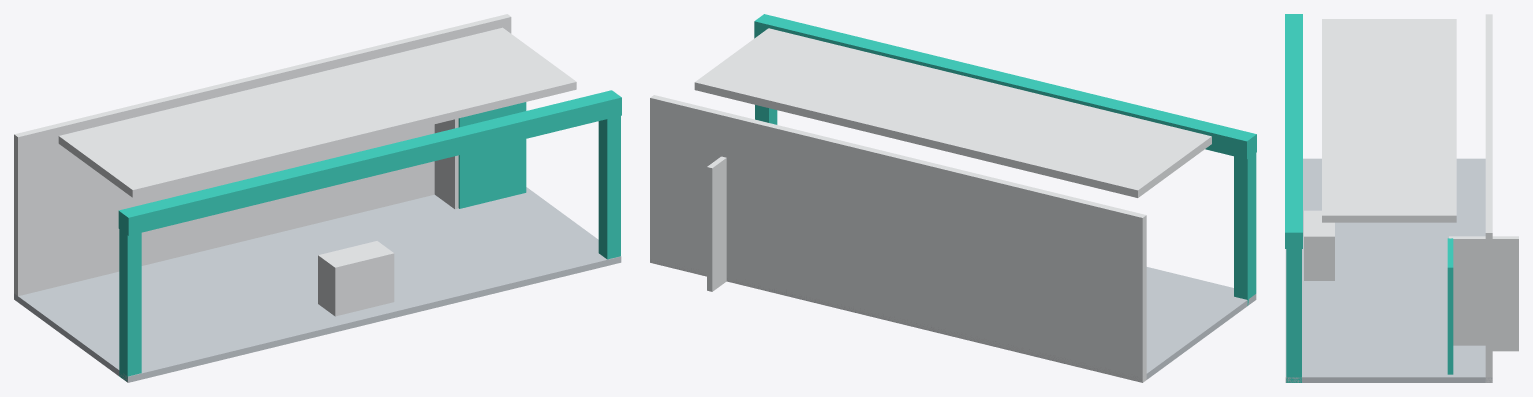
3 renders of one model, left to right at view 1: azimuth 30°, elevation 25°; view 2: azimuth 150°, elevation 25°; view 3: azimuth 270°, elevation 25°, orthographic. The views are drawn at different scales.
Parts seen in each view (by area): view 1: Exhibition Booth Concept; view 2: Exhibition Booth Concept; view 3: Exhibition Booth Concept.
Part boxes in pixels (x1,y1,x2,y2): Exhibition Booth Concept: [14, 14, 621, 382]; Exhibition Booth Concept: [650, 14, 1256, 382]; Exhibition Booth Concept: [1285, 14, 1518, 382].
Bounding box in the file's own units: 10 × 3.34 × 4.52.
